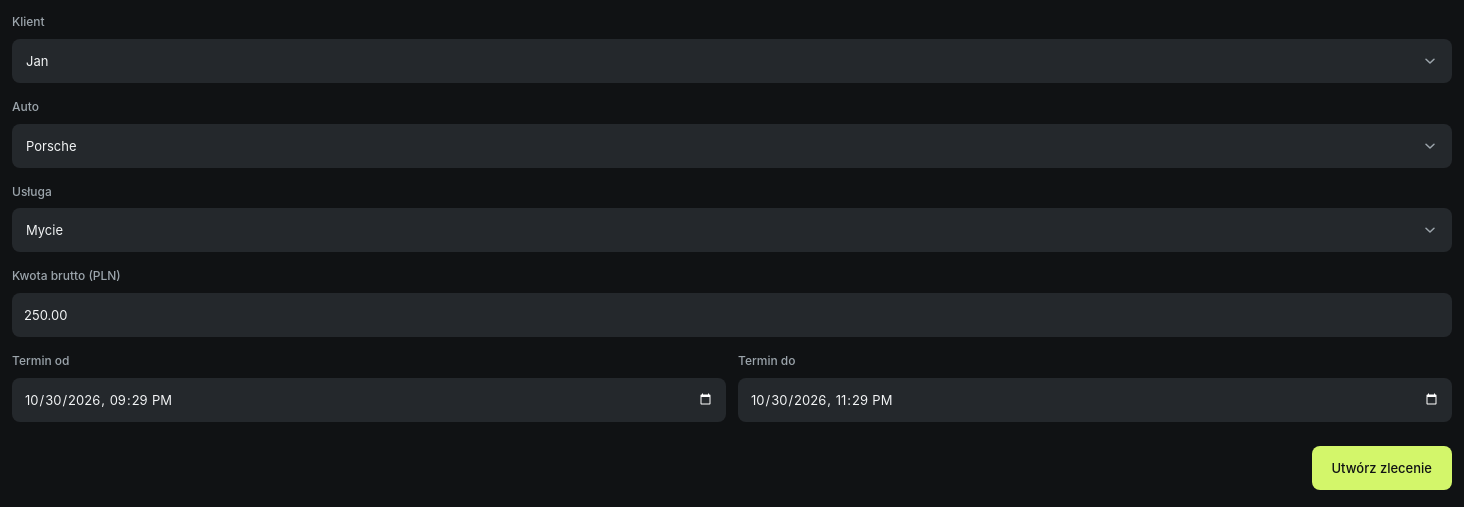
Test case: offers only the services it was given
Step 1. Click the dropdown named "Usługa" → [45, 230], box [12,208,1452,252]
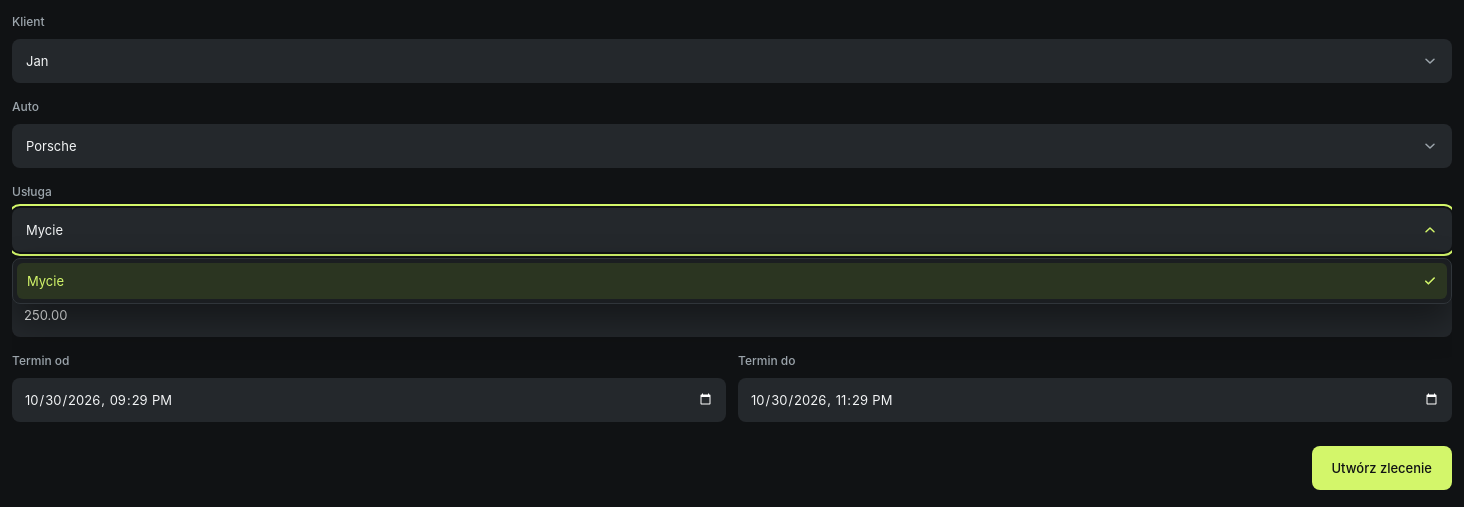
expect the number of options is 1: met, box [17,263,1447,299]
